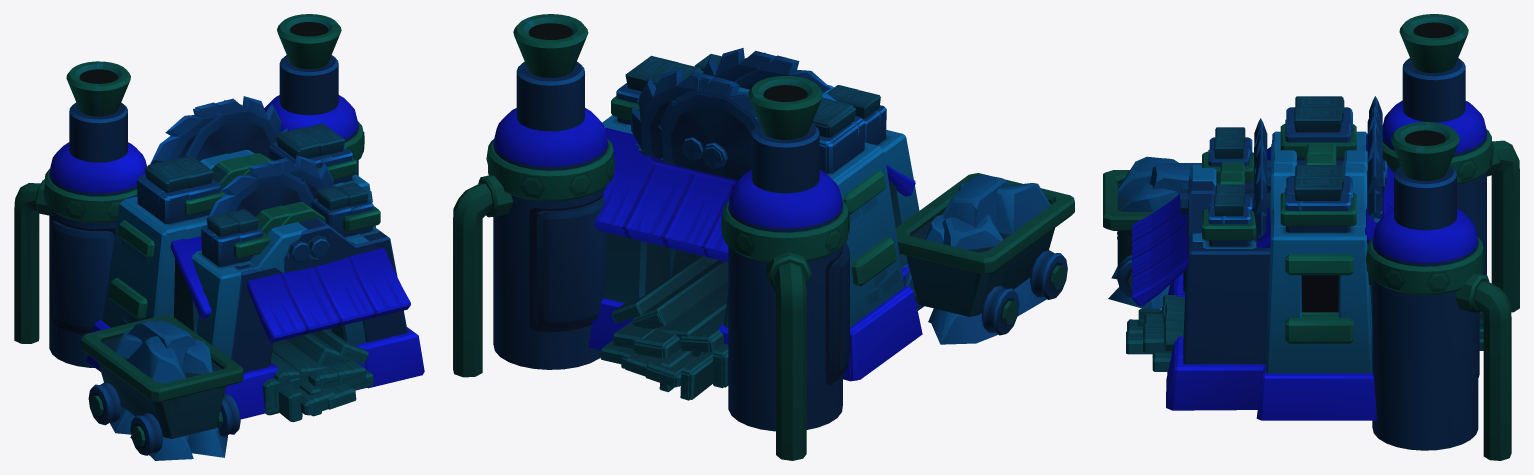
The model's file is woodmill.fbx.
3 views of the same model, side by side, from view 1: azimuth 30°, elevation 25°; view 2: azimuth 150°, elevation 25°; view 3: azimuth 270°, elevation 25° (orthographic). The views are drawn at different scales.
Visible parts, largest first — view 1: Woodmil_T4, Woodmil_T3, Woodmil_T2; view 2: Woodmil_T4, Woodmil_T3, Woodmil_T2, Woodmil_T1; view 3: Woodmil_T4, Woodmil_T3, Woodmil_T1.
Part boxes in pixels (bbox=[...]): Woodmil_T4: bbox=[14, 14, 424, 455]; Woodmil_T3: bbox=[97, 100, 396, 460]; Woodmil_T2: bbox=[86, 108, 338, 421]; Woodmil_T4: bbox=[453, 14, 1074, 460]; Woodmil_T3: bbox=[594, 52, 1046, 376]; Woodmil_T2: bbox=[588, 70, 922, 399]; Woodmil_T1: bbox=[621, 77, 907, 400]; Woodmil_T4: bbox=[1103, 14, 1519, 460]; Woodmil_T3: bbox=[1108, 96, 1483, 373]; Woodmil_T1: bbox=[1257, 100, 1387, 353].
Bounding box in the file's own units: 5.36 × 4.04 × 5.09.
